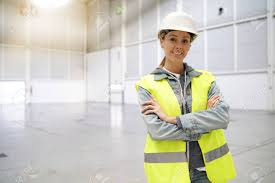hard hat: (157, 12, 198, 39)
high-vis: (135, 67, 239, 183)
